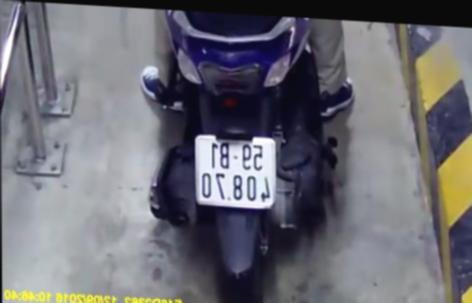License_Plate: (186, 128, 281, 218)
